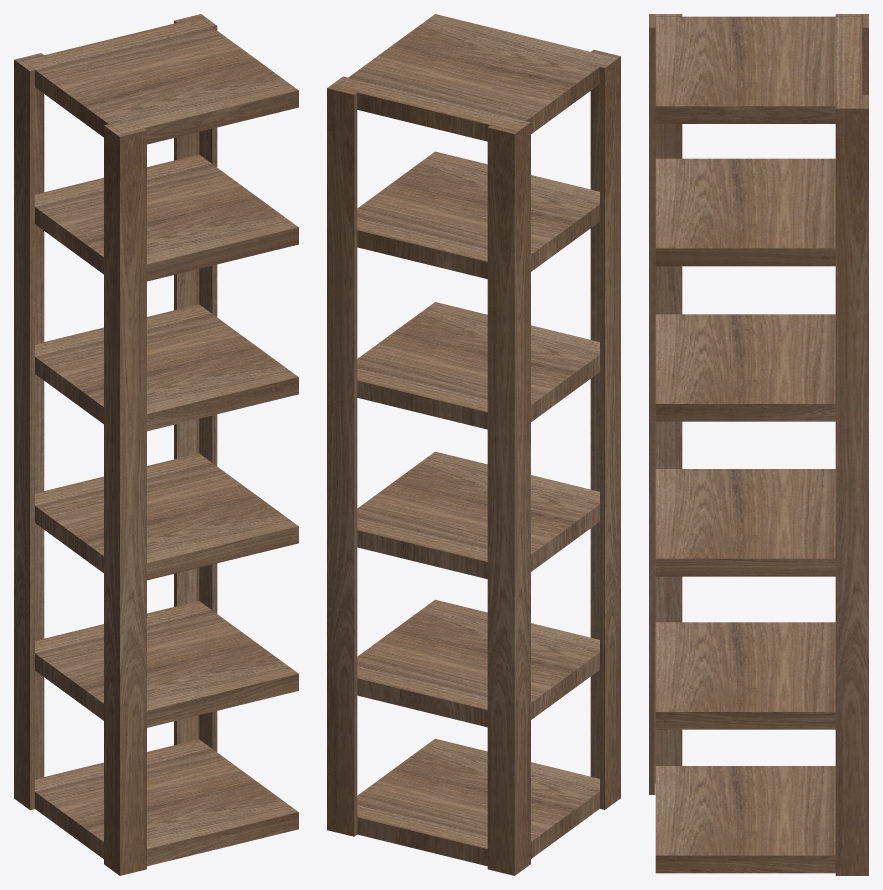
The model's file is ada-None_V1ME12J.glb.
3 views of the same model, side by side, from view 1: azimuth 30°, elevation 25°; view 2: azimuth 150°, elevation 25°; view 3: azimuth 270°, elevation 25° (orthographic). The views are drawn at different scales.
Parts seen in each view (by area): view 1: shelf; view 2: shelf; view 3: shelf.
Boxes of the visible parts, <box> form: shelf: <box>14,14,298,875</box>; shelf: <box>327,14,620,875</box>; shelf: <box>649,14,868,875</box>.
Size of the model in its own units: 0.4228 by 1.6 by 0.4142.
1 material, 1 textured.
